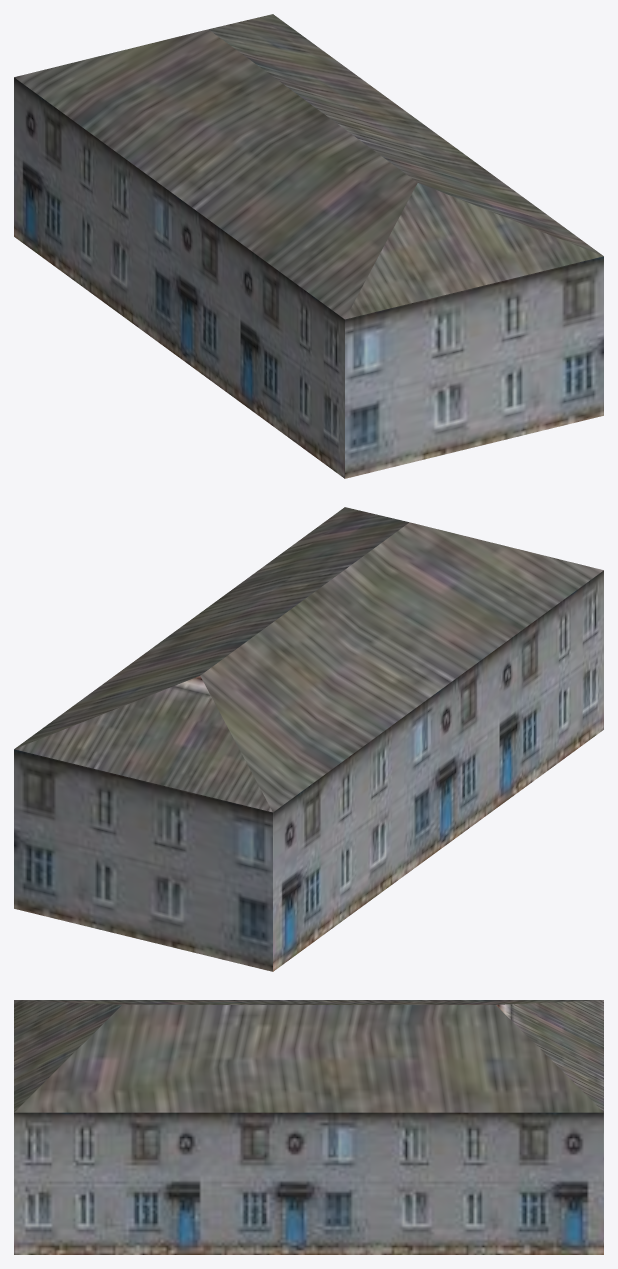
File: building2.fbx
3 views of the same model, one above another, from view 1: azimuth 30°, elevation 25°; view 2: azimuth 150°, elevation 25°; view 3: azimuth 270°, elevation 25° (orthographic). The views are drawn at different scales.
Parts seen in each view (by area): view 1: Cube.021; view 2: Cube.021; view 3: Cube.021.
Boxes of the visible parts, bbox=[...] form: Cube.021: bbox=[14, 14, 603, 478]; Cube.021: bbox=[14, 507, 603, 971]; Cube.021: bbox=[14, 1000, 603, 1254].
Size of the model in its own units: 1056 by 854 by 2337.
1 material, 1 textured.
